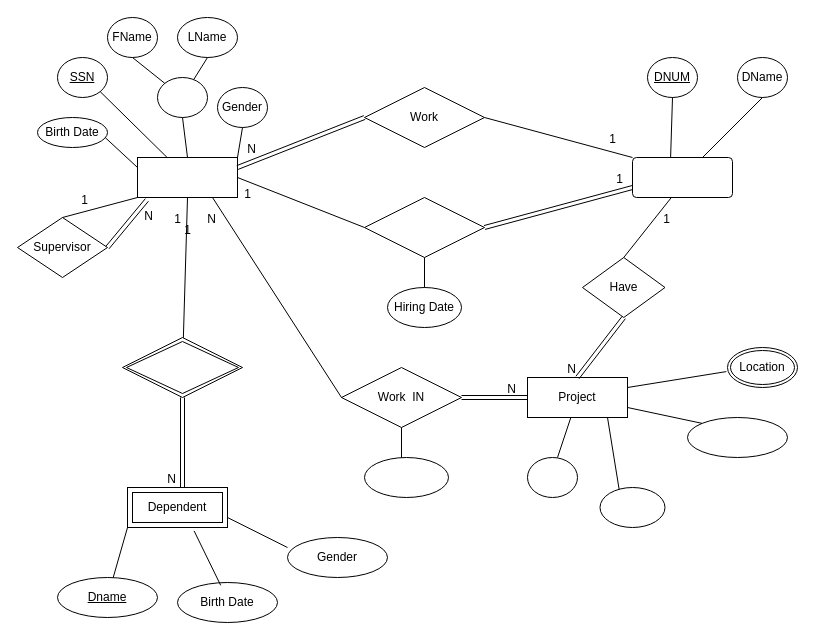
Image size: 815x640. Some labels were removed from this diagram. The centre of each missing label's shape, as x and y in pixels:
City: [737,437]
Department: [682,177]
Employee: [187,177]
Has: [182,367]
Manage: [424,227]
Name: [182,97]
PName: [632,507]
PNUM: [552,477]
Working Hours: [406,477]
